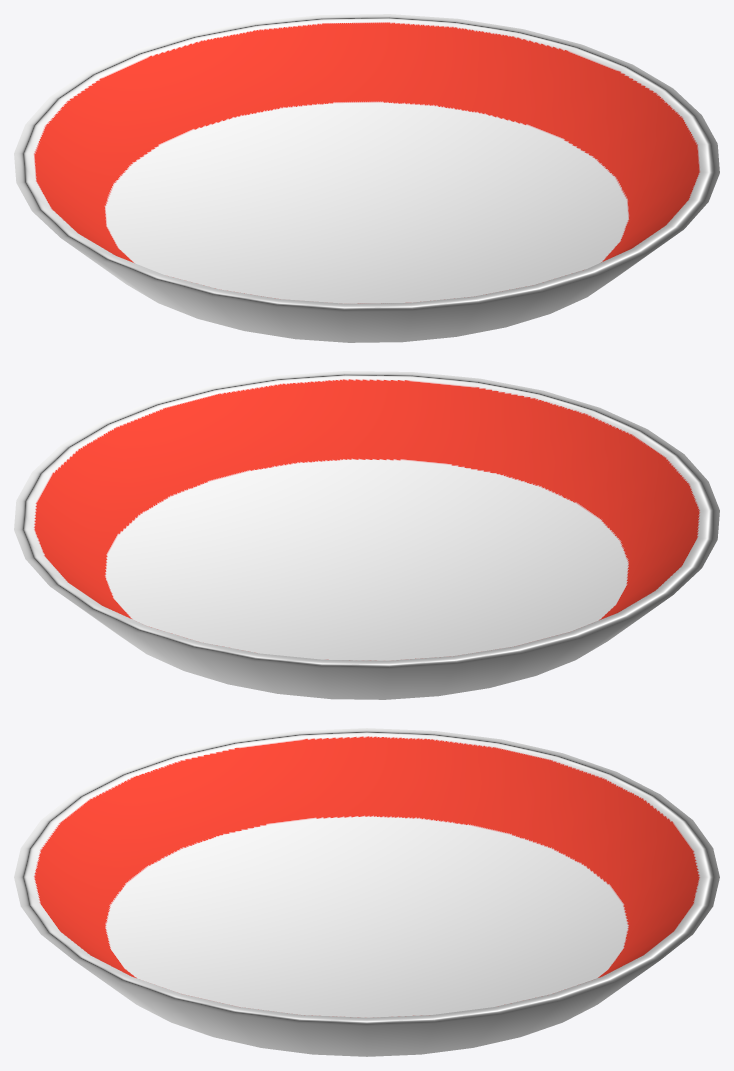
The model's file is Tallerken.fbx.
3 views of the same model, one above another, from view 1: azimuth 30°, elevation 25°; view 2: azimuth 150°, elevation 25°; view 3: azimuth 270°, elevation 25° (orthographic).
Parts seen in each view (by area): view 1: Circle.001; view 2: Circle.001; view 3: Circle.001.
Boxes of the visible parts, left/top/right/bottom form: Circle.001: left=14, top=14, right=719, bottom=342; Circle.001: left=14, top=371, right=719, bottom=699; Circle.001: left=14, top=728, right=719, bottom=1056.
Bounding box in the file's own units: 255 × 24.92 × 255.
1 material, 1 textured.
